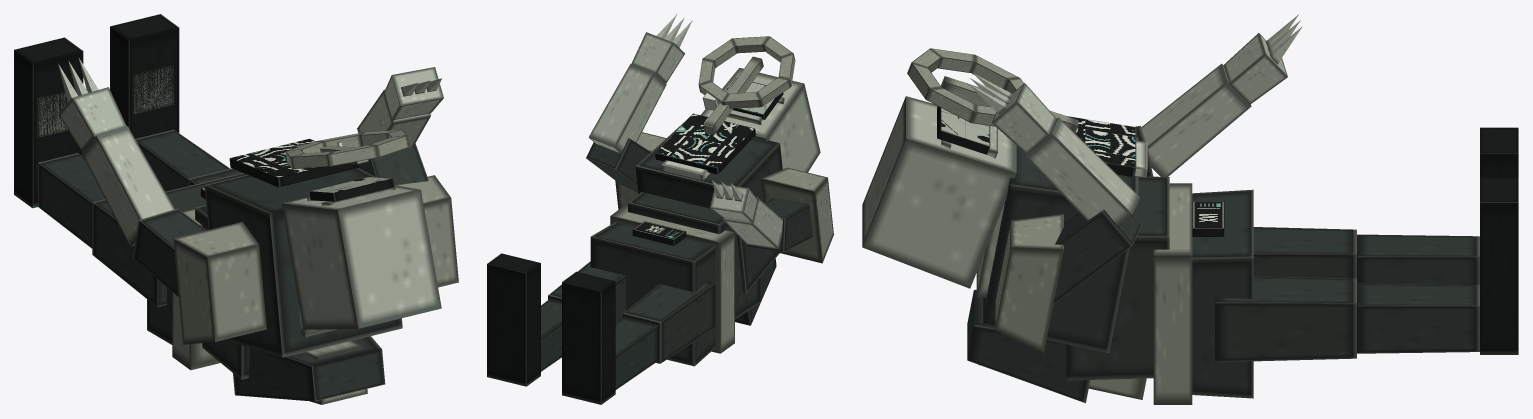
Rendered from probator_neutral.obj.
The picture shows the model from 3 angles, left to right: view 1: azimuth 30°, elevation 25°; view 2: azimuth 150°, elevation 25°; view 3: azimuth 270°, elevation 25°; orthographic projection. The views are drawn at different scales.
Visible parts, largest first — view 1: probator_neutral; view 2: probator_neutral; view 3: probator_neutral.
Part boxes in pixels (x1,y1,x2,y2): probator_neutral: (14,14,458,404); probator_neutral: (487,14,833,404); probator_neutral: (862,14,1518,404).
Bounding box in the file's own units: 0.5035 × 0.5878 × 1.
Materials: 1 (1 with a texture image).
